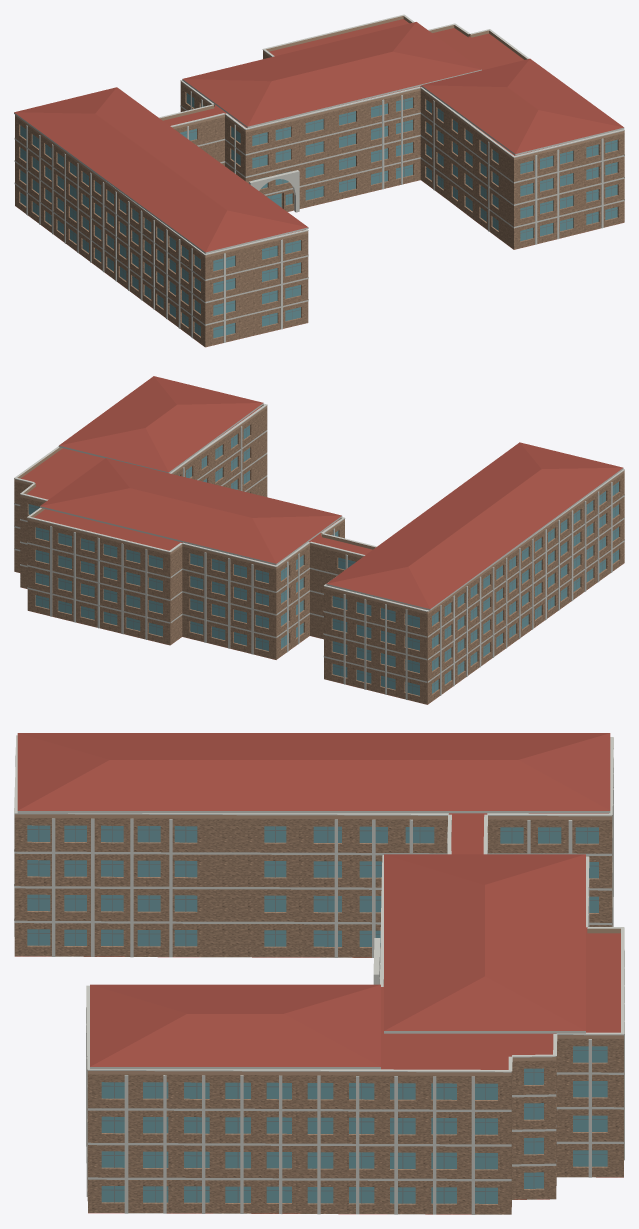
3 renders of one model, top to bottom at view 1: azimuth 30°, elevation 25°; view 2: azimuth 150°, elevation 25°; view 3: azimuth 270°, elevation 25°, orthographic. The views are drawn at different scales.
Parts seen in each view (by area): view 1: music__roof, music__wall, music__glass, music__trim, music__parapet, music__frame; view 2: music__roof, music__wall, music__glass, music__trim, music__parapet, music__frame; view 3: music__roof, music__wall, music__glass, music__trim, music__parapet, music__frame.
Boxes of the visible parts, x1,y1,x2,y2 form: music__roof: (14,19,623,347); music__wall: (15,52,624,347); music__glass: (20,93,617,338); music__trim: (14,14,624,342); music__parapet: (15,16,624,257); music__frame: (20,94,617,334); music__roof: (21,376,622,704); music__wall: (14,408,624,704); music__glass: (28,425,618,695); music__trim: (14,403,624,699); music__parapet: (14,404,624,614); music__frame: (28,427,618,693); music__roof: (15,733,623,1214); music__wall: (14,815,623,1214); music__glass: (27,825,607,1203); music__trim: (14,735,624,1214); music__parapet: (14,814,623,1075); music__frame: (27,825,607,1203).
Size of the model in its own units: 74.98 by 16.85 by 57.56.
Materials: 8 (1 with a texture image).
